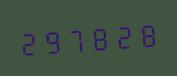eight: (133, 16, 155, 51), (87, 20, 109, 54)
nine: (40, 23, 62, 57)
seven: (64, 21, 86, 56)
two: (17, 24, 39, 59), (110, 18, 132, 52)
